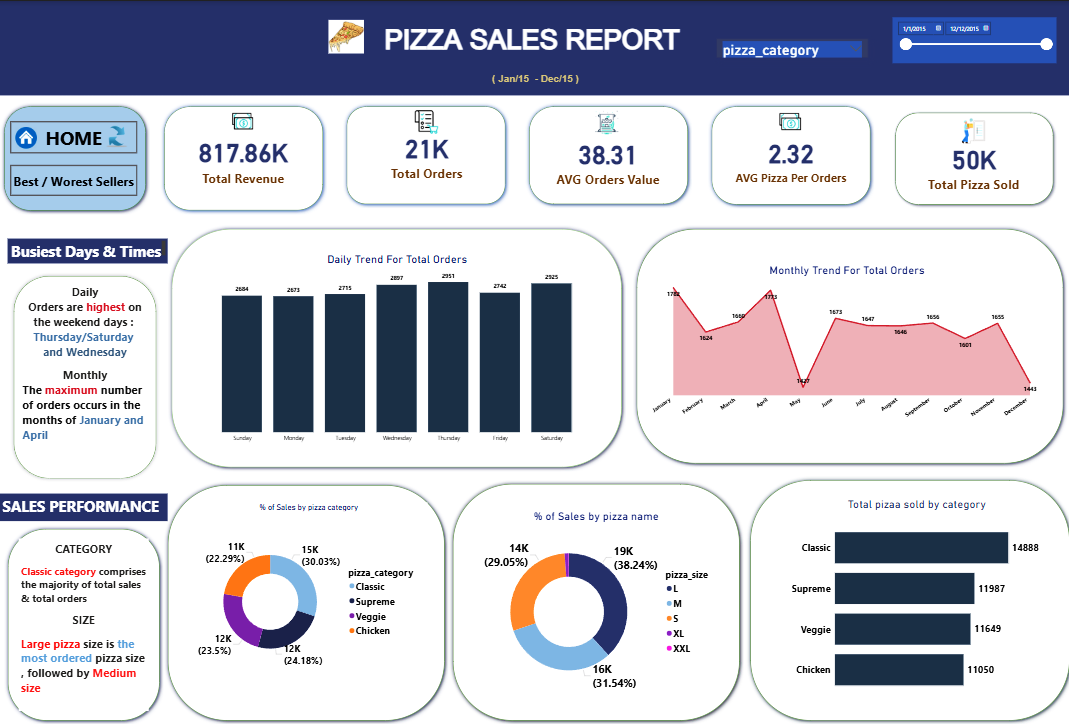

The dashboard page shown, as its layout file describes it:
{"tool":"powerbi","page":{"name":"Page 1","canvas":[2300,1550],"ordinal":0},"visuals":[{"type":"group","id":"g1","title":"Group 20","box":[0,216.9,321.4,241],"z":0,"group":"g21"},{"type":"group","id":"g2","title":"Group 19","box":[0,216.9,321.4,241],"z":0,"group":"g1"},{"type":"group","id":"g3","title":"Group 18","box":[0,216.9,321.4,241],"z":0,"group":"g2"},{"type":"shape","box":[0,216.9,321.4,241],"z":0,"group":"g3"},{"type":"shape","box":[734.3,217.3,357.9,227.3],"z":0,"group":"g9"},{"type":"shape","box":[1125.7,217.3,357.9,227.3],"z":0,"group":"g15"},{"type":"shape","box":[1517,217.3,357.9,228],"z":0,"group":"g11"},{"type":"shape","box":[1908.4,229.7,356.2,227.3],"z":0,"group":"g13"},{"type":"shape","box":[1356,478.5,931.9,520.3],"z":0,"group":"g12"},{"type":"shape","box":[21.4,581.1,321.4,449.9],"z":0,"group":"g19"},{"type":"shape","box":[1598.7,1017.6,701.6,532.9],"z":0,"group":"g16"},{"type":"shape","title":"% of Sales by pizza name","box":[961.4,1025.7,632,524.9],"z":0,"group":"g17"},{"type":"shape","box":[350.8,1028.3,610.6,522.2],"z":0,"group":"g18"},{"type":"shape","box":[8,1122.1,342.8,428.5],"z":0,"group":"g20"},{"type":"shape","box":[359.9,478.5,982,528.6],"z":500,"group":"g14"},{"type":"textbox","box":[0,0,2300.4,202.7],"z":1000},{"type":"card","fields":{"Values":["pizza_sales.Total Orders"]},"box":[768.7,238.8,291.4,179],"z":1000,"group":"g9"},{"type":"card","title":"AVG Orders Value","fields":{"Values":["pizza_sales.AVG Orders Value"]},"box":[1156.6,240.2,291.6,197.9],"z":1000,"group":"g15"},{"type":"card","fields":{"Values":["pizza_sales.AVG Pizza Per Orders"]},"box":[1570.6,241.9,250.7,192],"z":1000,"group":"g11"},{"type":"image","box":[206.2,262.4,88.4,56.2],"z":1000,"group":"g21"},{"type":"image","box":[0,265.1,112.5,56.2],"z":1000,"group":"g1"},{"type":"actionButton","box":[21.4,350.8,273.2,66.9],"z":1000,"group":"g2"},{"type":"clusteredBarChart","title":"Total pizaa sold by category","fields":{"Category":["pizza_sales.pizza_category"],"Y":["pizza_sales.Total Pizza Sold"]},"box":[1689.8,1063.9,549,446],"z":1000,"group":"g16"},{"type":"shape","box":[342.7,217.3,358.2,240.6],"z":1500,"group":"g7"},{"type":"image","box":[699.9,35.5,85.7,83.6],"z":2000},{"type":"card","fields":{"Values":["pizza_sales.Total Revenue"]},"box":[377.1,256.1,287.6,166.1],"z":2000,"group":"g7"},{"type":"areaChart","title":"Monthly Trend For Total Orders ","fields":{"Category":["pizza_sales.Month Name"],"Y":["pizza_sales.Total Order 2"]},"box":[1390.5,560.5,849.9,349.7],"z":2000,"group":"g12"},{"type":"donutChart","title":"% of Sales by pizza category","fields":{"Y":["pizza_sales.Total Pizza Sold"],"Category":["pizza_sales.pizza_category"]},"box":[407.2,1074.7,508.8,407.7],"z":2000,"group":"g18"},{"type":"donutChart","title":"% of Sales by pizza name","fields":{"Category":["pizza_sales.pizza_size"],"Y":["pizza_sales.Total Pizza Sold"]},"box":[1006.9,1090.2,540.9,410.5],"z":2000,"group":"g17"},{"type":"slicer","title":"pizza_category","fields":{"Values":["pizza_sales.pizza_category"]},"box":[1533.6,81.5,325.9,41.8],"z":3000},{"type":"clusteredColumnChart","title":"Daily  Trend For Total Orders ","fields":{"Category":["pizza_sales.Day Name"],"Y":["pizza_sales.Total Order 2"]},"box":[426.3,537,850.4,415.8],"z":3000,"group":"g14"},{"type":"slicer","fields":{"Values":["pizza_sales.order_date"]},"box":[1911.8,35.5,351,98.2],"z":4000},{"type":"card","fields":{"Values":["pizza_sales.Total Pizza Sold"]},"box":[1951.4,261.5,268.2,195.5],"z":4000,"group":"g13"},{"type":"group","id":"g4","title":"Group 7","box":[342.7,217.3,357.3,227.7],"z":5000},{"type":"group","id":"g5","title":"Group 9","box":[734.3,217.3,357,227],"z":6000},{"type":"group","id":"g6","title":"Group 8","box":[1125.7,217.3,357,227],"z":7000},{"type":"group","id":"g7","title":"Group 5","box":[342.7,217.3,357.3,227.7],"z":8000,"group":"g4"},{"type":"group","id":"g8","title":"Group 6","box":[1517,217.3,357,227.7],"z":8000},{"type":"group","id":"g9","title":"Group 4","box":[734.3,217.3,357,227],"z":9000,"group":"g5"},{"type":"group","id":"g10","title":"Group 10","box":[1908.4,229.7,357,227],"z":9000},{"type":"group","id":"g11","title":"Group 1","box":[1517,217.3,357,227.7],"z":10000,"group":"g8"},{"type":"group","id":"g12","title":"Group 11","box":[1356,478.5,931.9,520.3],"z":10000},{"type":"group","id":"g13","title":"Group 2","box":[1908.4,229.7,357,227],"z":11000,"group":"g10"},{"type":"group","id":"g14","title":"Group 12","box":[359.9,478.5,982,528.6],"z":11000},{"type":"group","id":"g15","title":"Group 3","box":[1125.7,217.3,357,227],"z":12000,"group":"g6"},{"type":"textbox","box":[16.9,508,343.5,53.2],"z":12000},{"type":"image","box":[1646.4,231.9,98.2,56.4],"z":12001,"group":"g8"},{"type":"image","box":[493.1,223.6,54.3,71],"z":12002,"group":"g4"},{"type":"image","box":[1251.6,229.8,98.2,60.6],"z":12005,"group":"g6"},{"type":"image","box":[883.8,219.4,60.6,79.4],"z":12007,"group":"g5"},{"type":"image","box":[2014.2,243.1,142.1,72.9],"z":12009,"group":"g10"},{"type":"textbox","box":[42.8,602.5,278.5,396.3],"z":13000,"group":"g19"},{"type":"group","id":"g16","title":"Group 14","box":[1598.7,1017.6,701.6,532.9],"z":13000},{"type":"group","id":"g17","title":"Group 15","box":[961.4,1025.7,632,524.9],"z":14000},{"type":"group","id":"g18","title":"Group 16","box":[350.8,1028.3,610.6,522.2],"z":15000},{"type":"textbox","box":[0,1055.1,358.8,58.9],"z":16000},{"type":"group","id":"g19","title":"Group 13","box":[21.4,581.1,321.4,449.9],"z":17000},{"type":"textbox","box":[40.1,1151.6,278.5,369.6],"z":18000,"group":"g20"},{"type":"group","id":"g20","title":"Group 17","box":[8,1122.1,342.8,428.5],"z":18001},{"type":"actionButton","box":[21.4,257.1,273.2,69.6],"z":18002,"group":"g3"},{"type":"group","id":"g21","title":"Group 21","box":[0,216.9,321.4,241],"z":18009}]}

Visuals, with their boxes in screenshot pixels (x1, y1, x2, y2), scaled from the page's 2300x1550 canvas onto the 1069x724 screenshot:
"Group 20" group: 0 101 149 214
"Group 19" group: 0 101 149 214
"Group 18" group: 0 101 149 214
shape: 0 101 149 214
shape: 341 102 508 208
shape: 523 102 690 208
shape: 705 102 871 208
shape: 887 107 1053 213
shape: 630 224 1063 467
shape: 10 271 159 482
shape: 743 475 1068 723
"% of Sales by pizza name" shape: 447 479 741 723
shape: 163 480 447 723
shape: 4 524 163 723
shape: 167 224 624 470
textbox: 0 0 1068 95
card - pizza_sales.Total Orders: 357 112 493 195
"AVG Orders Value" card: 538 112 673 205
card - pizza_sales.AVG Pizza Per Orders: 730 113 847 203
image: 96 123 137 149
image: 0 124 52 150
actionButton: 10 164 137 195
"Total pizaa sold by category" clusteredBarChart: 785 497 1041 705
shape: 159 102 326 214
image: 325 17 365 56
card - pizza_sales.Total Revenue: 175 120 309 197
"Monthly Trend For Total Orders " areaChart: 646 262 1041 425
"% of Sales by pizza category" donutChart: 189 502 426 692
"% of Sales by pizza name" donutChart: 468 509 719 701
"pizza_category" slicer: 713 38 864 58
"Daily  Trend For Total Orders " clusteredColumnChart: 198 251 593 445
slicer - pizza_sales.order_date: 889 17 1052 62
card - pizza_sales.Total Pizza Sold: 907 122 1032 213
"Group 7" group: 159 102 325 208
"Group 9" group: 341 102 507 208
"Group 8" group: 523 102 689 208
"Group 5" group: 159 102 325 208
"Group 6" group: 705 102 871 208
"Group 4" group: 341 102 507 208
"Group 10" group: 887 107 1053 213
"Group 1" group: 705 102 871 208
"Group 11" group: 630 224 1063 467
"Group 2" group: 887 107 1053 213
"Group 12" group: 167 224 624 470
"Group 3" group: 523 102 689 208
textbox: 8 237 168 262
image: 765 108 811 135
image: 229 104 254 138
image: 582 107 627 136
image: 411 102 439 140
image: 936 114 1002 148
textbox: 20 281 149 467
"Group 14" group: 743 475 1068 723
"Group 15" group: 447 479 741 723
"Group 16" group: 163 480 447 723
textbox: 0 493 167 520
"Group 13" group: 10 271 159 482
textbox: 19 538 148 711
"Group 17" group: 4 524 163 723
actionButton: 10 120 137 153
"Group 21" group: 0 101 149 214
